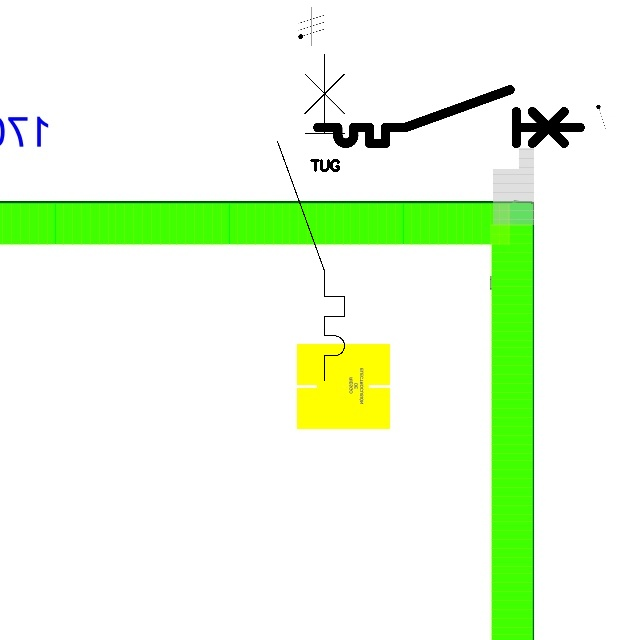interruptor_termomagnetico: (269, 45, 353, 388), (311, 83, 586, 150)
